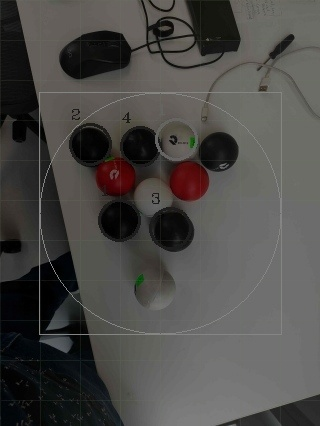Pelota blanca: (145, 0, 241, 70), (273, 44, 320, 118), (225, 395, 320, 425), (132, 257, 177, 310), (156, 118, 198, 160), (132, 177, 174, 216)
Pelota negra: (58, 28, 131, 81), (148, 206, 195, 254), (95, 198, 142, 243), (68, 121, 113, 168), (199, 129, 241, 174), (119, 124, 158, 166)
Pelota roja: (167, 158, 211, 203), (95, 156, 137, 198)
